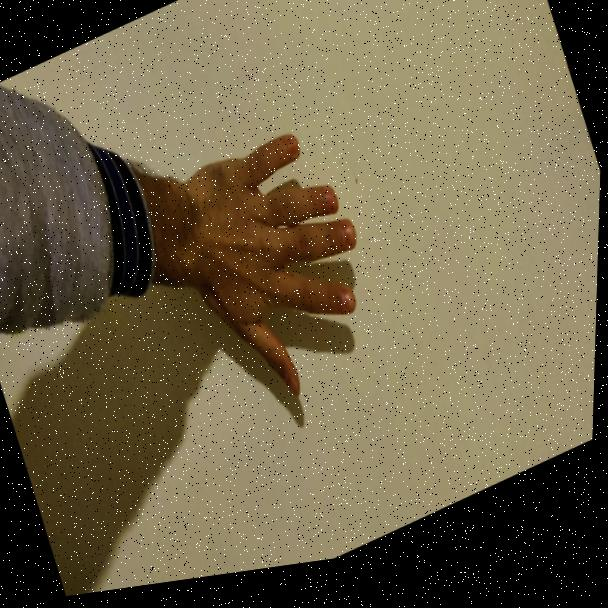five: (152, 92, 403, 441)
